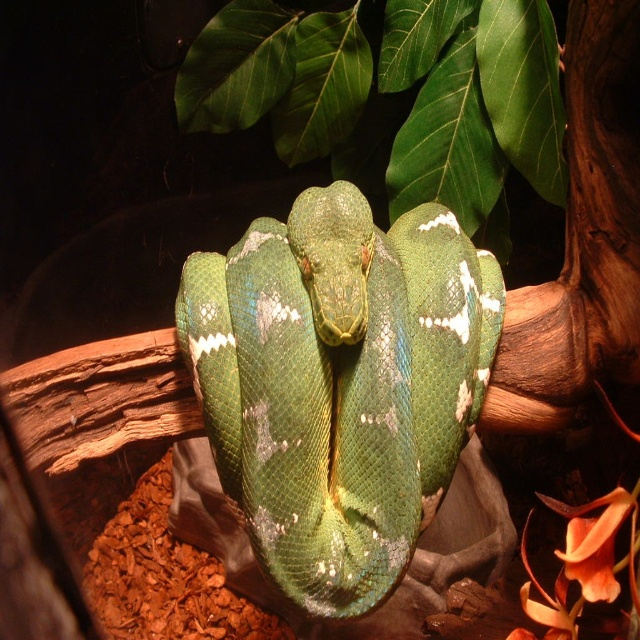Snake: (174, 185, 508, 621)
